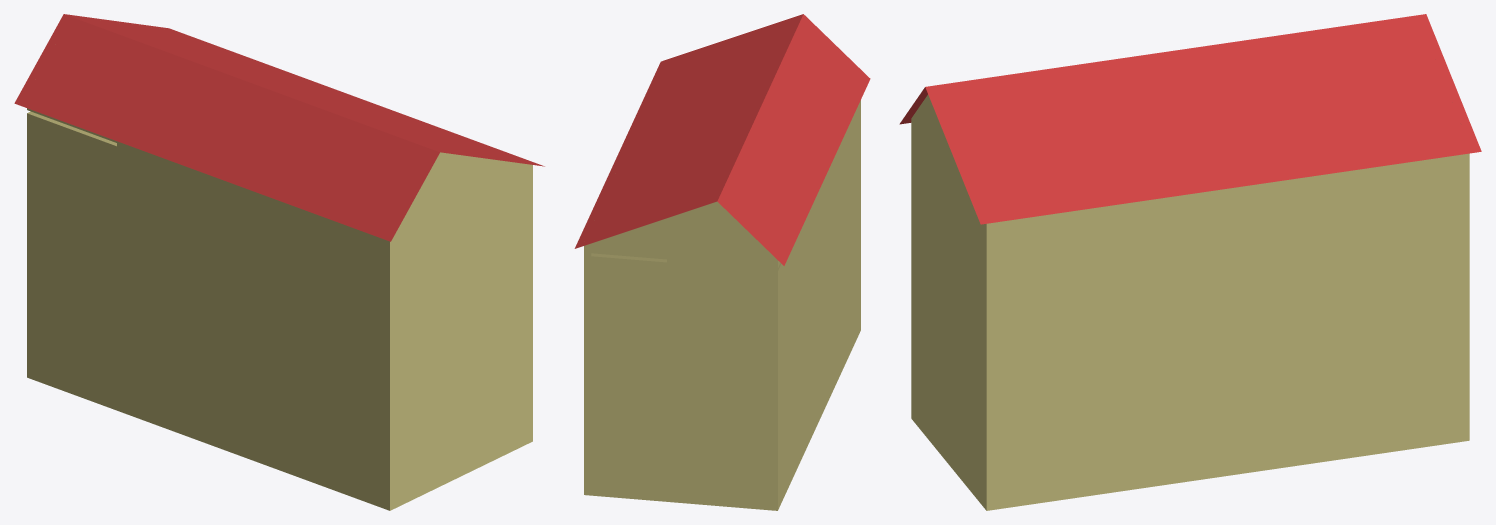
The picture shows the model from 3 angles, left to right: view 1: azimuth 30°, elevation 25°; view 2: azimuth 150°, elevation 25°; view 3: azimuth 270°, elevation 25°; orthographic projection. The views are drawn at different scales.
Bounding box in the file's own units: 10.81 × 15.38 × 10.52.
